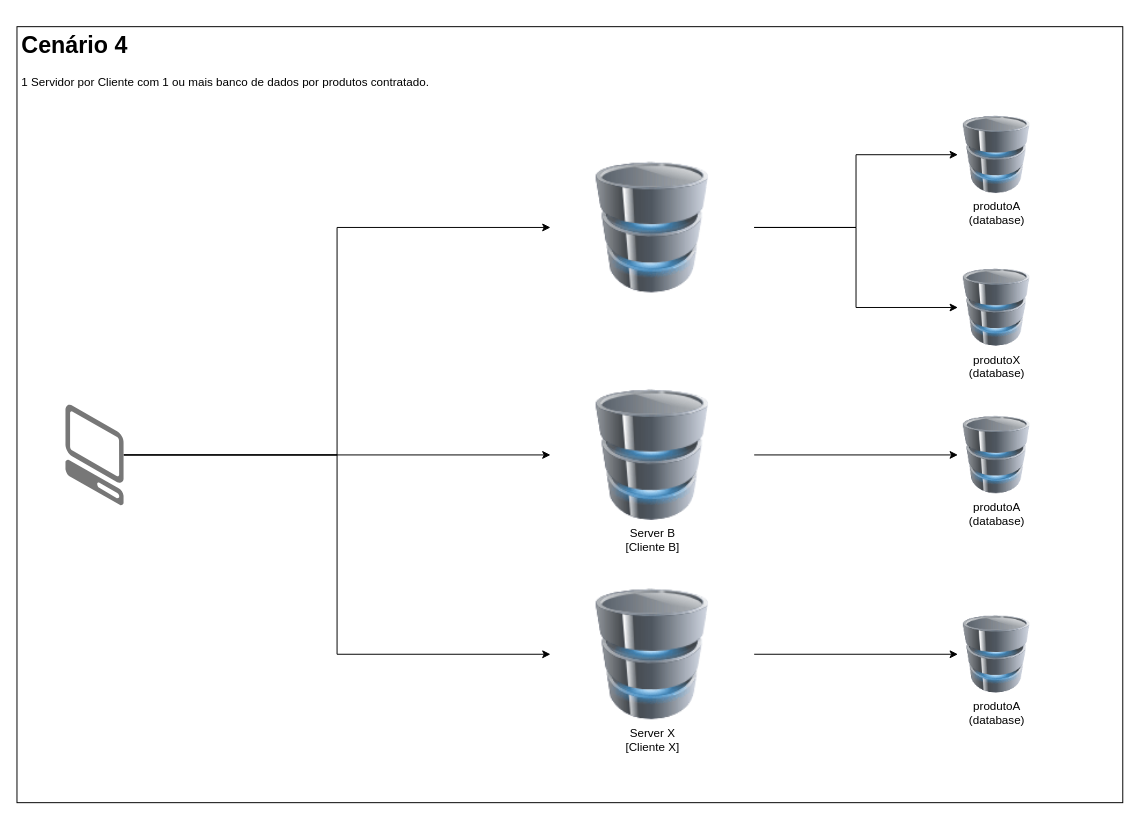
Some shapes in this 1140 by 820 pixel diagram are drawn without their labels. Each missing label, with the centre of its shape:
pgADMIN: the point at 94,454
Server A [Cliente A]: the point at 652,227
